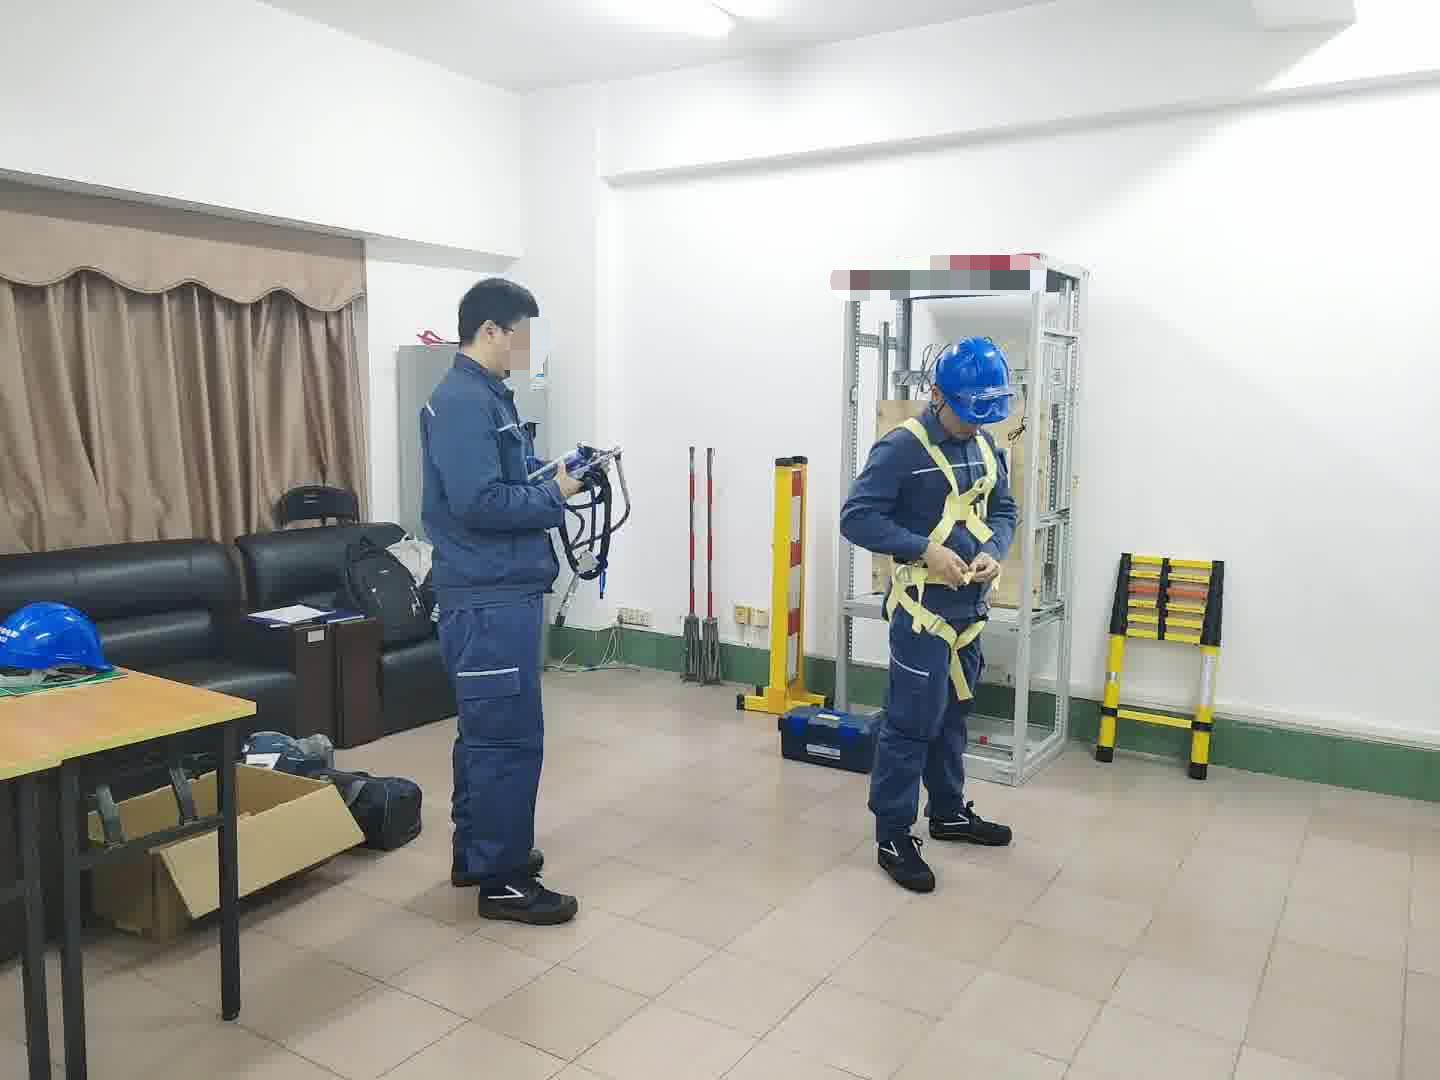halt: (934, 335, 1016, 434)
inear: (925, 380, 955, 420)
noear: (476, 317, 513, 358)
unhalt: (457, 277, 547, 380)
